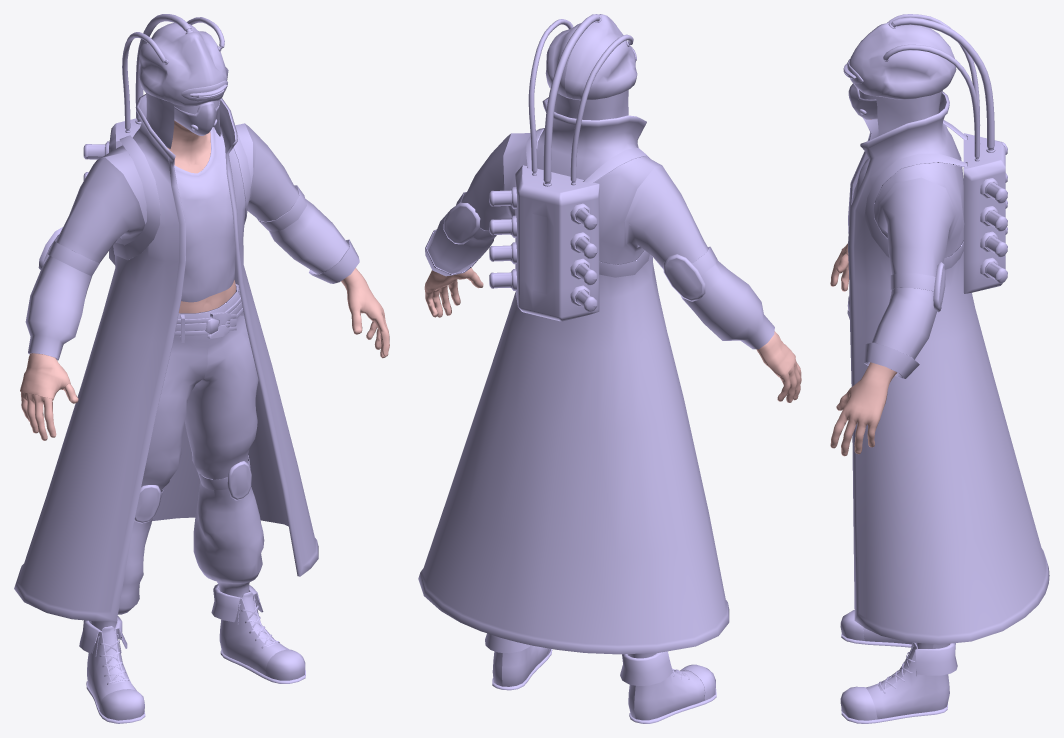
File: player.fbx
3 views of the same model, side by side, from view 1: azimuth 30°, elevation 25°; view 2: azimuth 150°, elevation 25°; view 3: azimuth 270°, elevation 25° (orthographic). The views are drawn at different scales.
Parts seen in each view (by area): view 1: Group62697, Group60619; view 2: Group62697, Group60619; view 3: Group62697, Group60619.
Boxes of the visible parts, x1,y1,x2,y2 form: Group62697: (14, 14, 359, 723); Group60619: (20, 120, 389, 440); Group62697: (418, 14, 774, 723); Group60619: (424, 268, 801, 402); Group62697: (840, 14, 1049, 723); Group60619: (830, 119, 897, 456).
Size of the model in its own units: 307 by 542 by 164.
